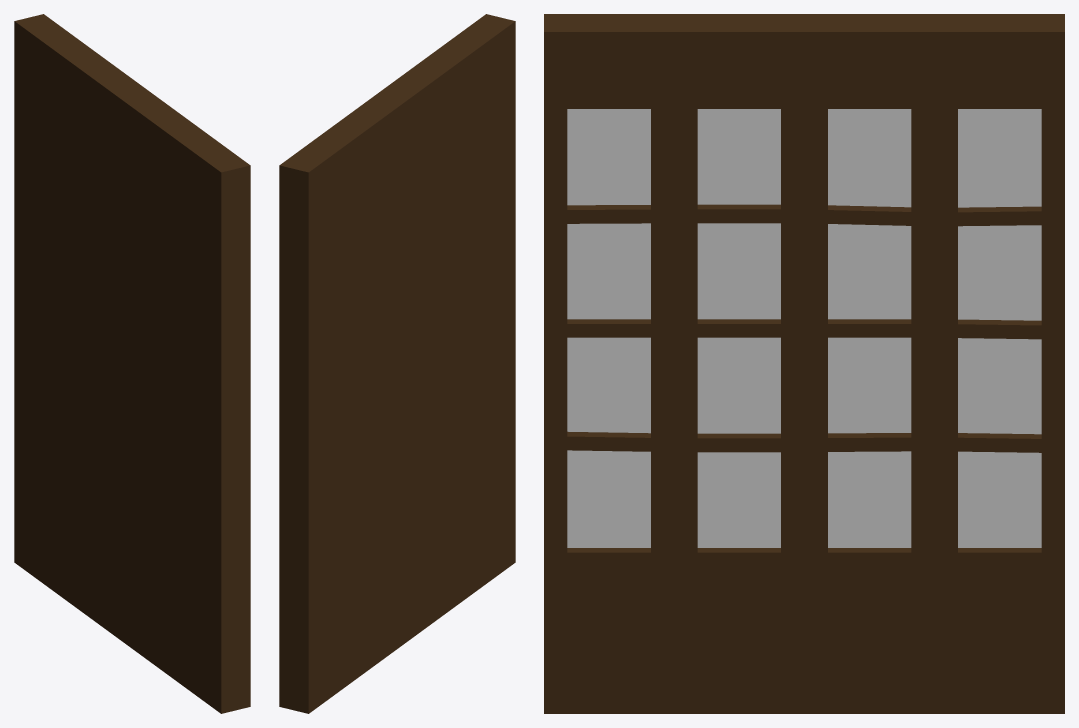
File: ShojiDoor.fbx
The picture shows the model from 3 angles, left to right: view 1: azimuth 30°, elevation 25°; view 2: azimuth 150°, elevation 25°; view 3: azimuth 270°, elevation 25°; orthographic projection. The views are drawn at different scales.
Parts seen in each view (by area): view 1: Cube; view 2: Cube; view 3: Cube.
Part boxes in pixels (x1,y1,x2,y2): Cube: (14, 14, 250, 713); Cube: (279, 14, 515, 713); Cube: (544, 14, 1064, 713).
Bounding box in the file's own units: 50 × 884 × 612.
